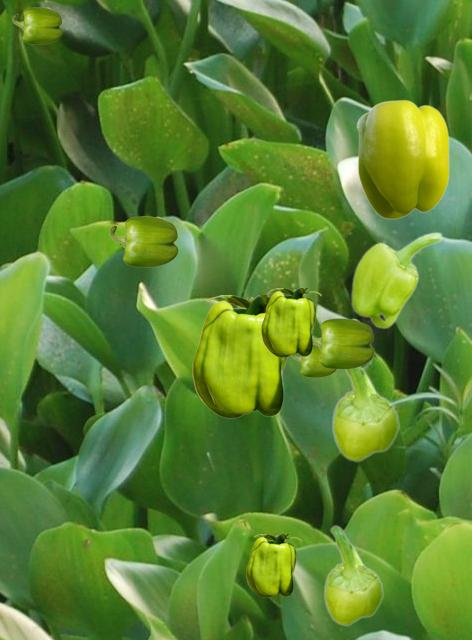bell_pepper: (192, 295, 287, 417), (356, 99, 448, 218), (350, 231, 442, 328), (331, 367, 399, 461), (323, 525, 383, 625), (261, 288, 320, 356), (109, 216, 177, 266), (246, 534, 300, 596), (313, 318, 373, 368), (12, 7, 61, 43), (291, 346, 336, 376)
